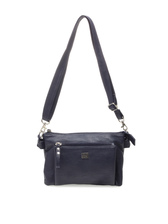bag: (33, 15, 139, 192)
